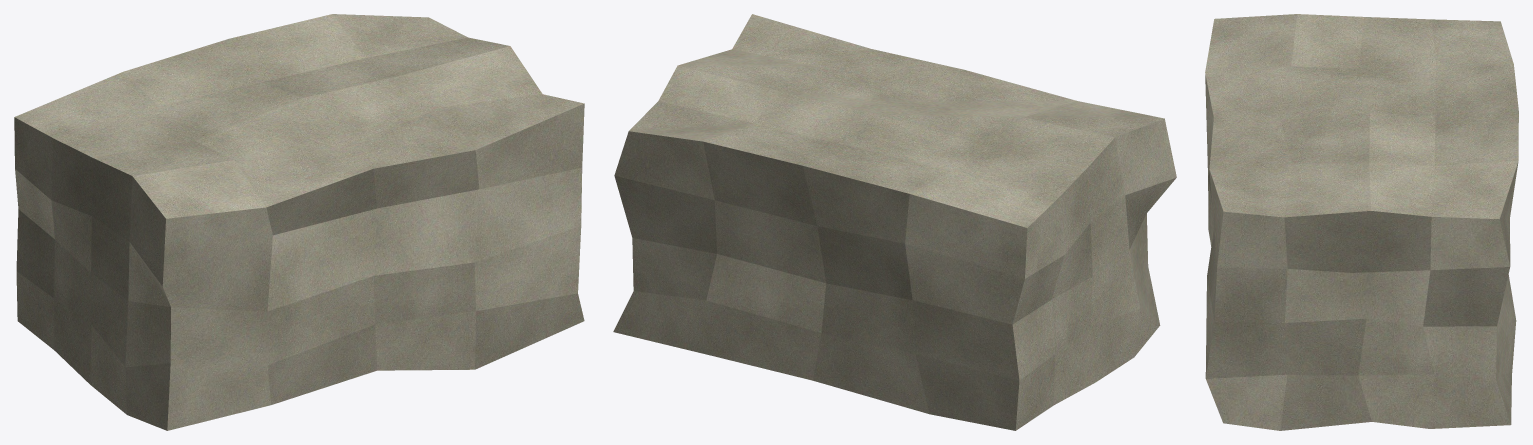
File: bloque.fbx
The picture shows the model from 3 angles, left to right: view 1: azimuth 30°, elevation 25°; view 2: azimuth 150°, elevation 25°; view 3: azimuth 270°, elevation 25°; orthographic projection. The views are drawn at different scales.
Parts seen in each view (by area): view 1: bloque; view 2: bloque; view 3: bloque.
Part boxes in pixels (bbox=[...]): bloque: bbox=[14, 14, 584, 430]; bloque: bbox=[613, 14, 1176, 430]; bloque: bbox=[1205, 14, 1518, 430].
Size of the model in its own units: 1.67 by 0.8709 by 1.08.
1 material, 1 textured.
